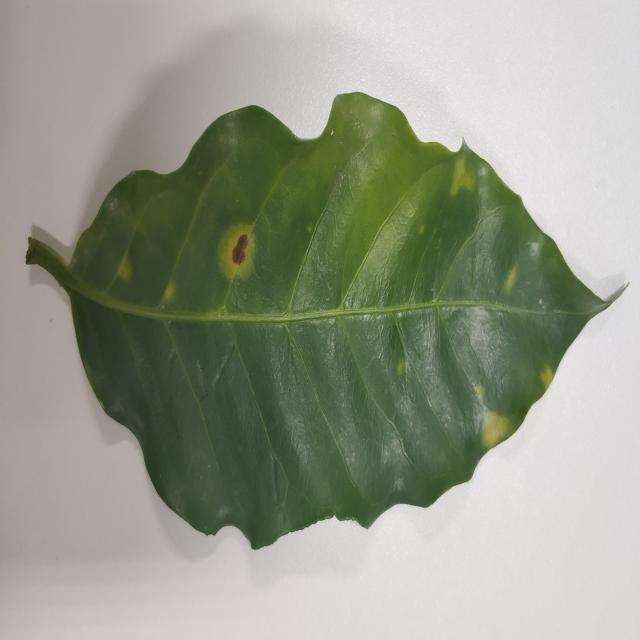Enfermedad-Roya: (23, 93, 626, 552)
